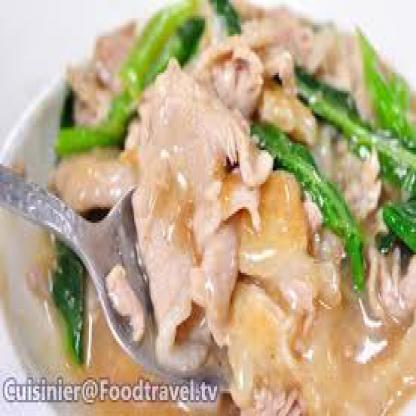Laadna: (9, 20, 412, 414)
